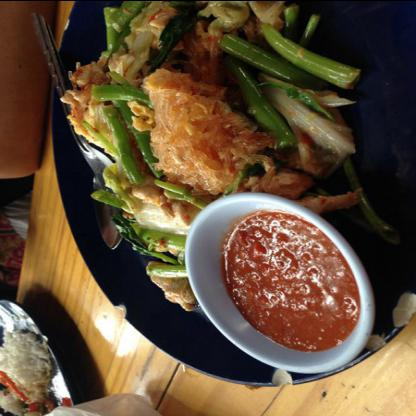Suki: (50, 0, 386, 340)
